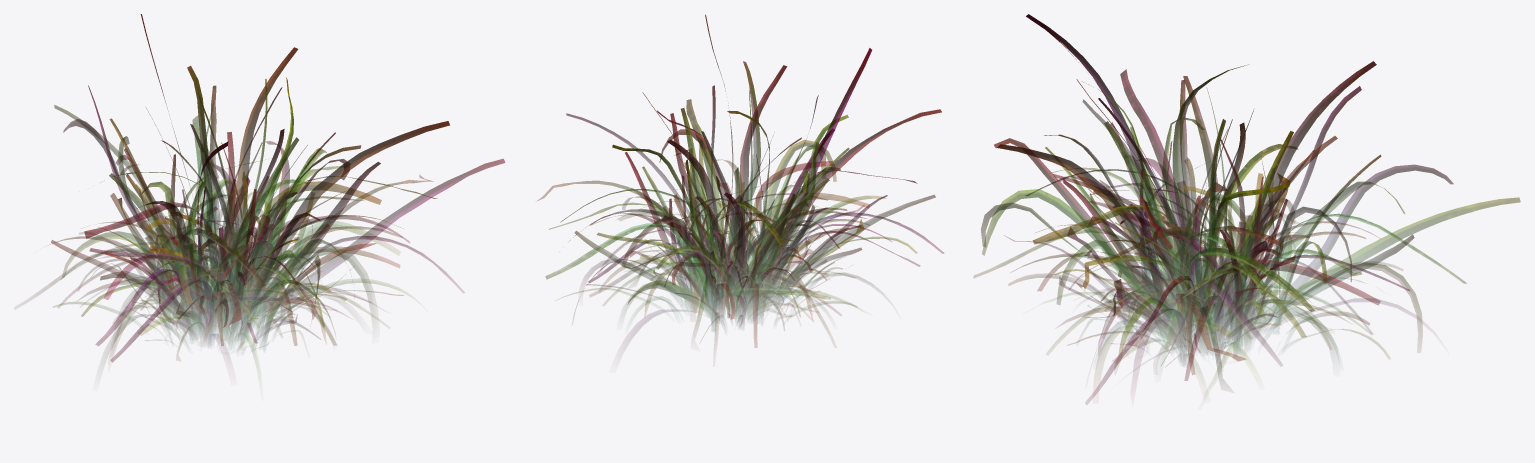
File: tbdpec3r_tier_1.gltf
3 views of the same model, side by side, from view 1: azimuth 30°, elevation 25°; view 2: azimuth 150°, elevation 25°; view 3: azimuth 270°, elevation 25° (orthographic). The views are drawn at different scales.
Parts seen in each view (by area): view 1: SM_tbdpec3r_VarA, SM_tbdpec3r_VarC, SM_tbdpec3r_VarB, SM_tbdpec3r_VarD, SM_tbdpec3r_VarE, SM_tbdpec3r_VarF; view 2: SM_tbdpec3r_VarA, SM_tbdpec3r_VarC, SM_tbdpec3r_VarB, SM_tbdpec3r_VarD, SM_tbdpec3r_VarE, SM_tbdpec3r_VarF; view 3: SM_tbdpec3r_VarA, SM_tbdpec3r_VarB, SM_tbdpec3r_VarC, SM_tbdpec3r_VarD, SM_tbdpec3r_VarE, SM_tbdpec3r_VarF.
Boxes of the visible parts, bbox=[...] form: SM_tbdpec3r_VarA: bbox=[26, 14, 505, 349]; SM_tbdpec3r_VarC: bbox=[57, 106, 464, 362]; SM_tbdpec3r_VarB: bbox=[53, 65, 380, 341]; SM_tbdpec3r_VarD: bbox=[98, 77, 403, 346]; SM_tbdpec3r_VarE: bbox=[118, 171, 314, 340]; SM_tbdpec3r_VarF: bbox=[146, 217, 333, 360]; SM_tbdpec3r_VarA: bbox=[537, 14, 941, 337]; SM_tbdpec3r_VarC: bbox=[560, 129, 943, 347]; SM_tbdpec3r_VarB: bbox=[558, 61, 917, 336]; SM_tbdpec3r_VarD: bbox=[612, 110, 864, 311]; SM_tbdpec3r_VarE: bbox=[630, 176, 864, 309]; SM_tbdpec3r_VarF: bbox=[632, 218, 817, 336]; SM_tbdpec3r_VarA: bbox=[973, 14, 1520, 373]; SM_tbdpec3r_VarB: bbox=[981, 64, 1453, 365]; SM_tbdpec3r_VarC: bbox=[1011, 98, 1409, 404]; SM_tbdpec3r_VarD: bbox=[1004, 141, 1361, 359]; SM_tbdpec3r_VarE: bbox=[1087, 173, 1289, 350]; SM_tbdpec3r_VarF: bbox=[1084, 236, 1307, 387].
Size of what is drawn, in the model's own units: 0.7082 by 0.541 by 0.7291.
Materials: 1 (1 with a texture image).
